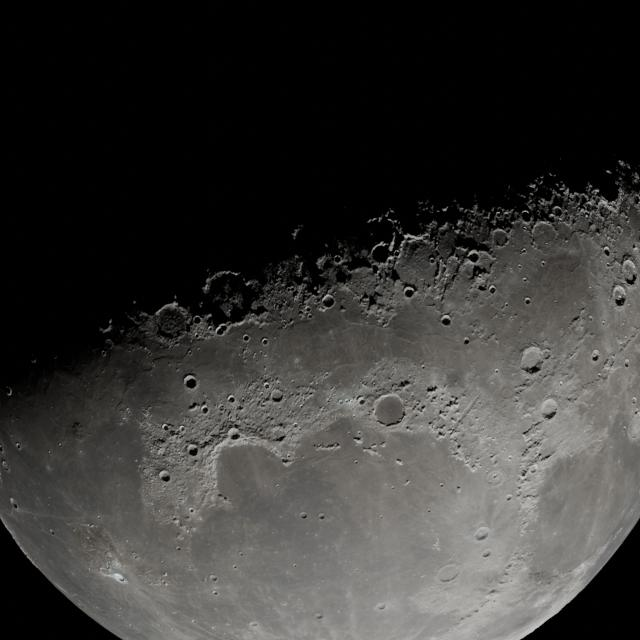crater: (193, 269, 259, 329), (146, 301, 196, 343), (515, 341, 551, 378), (371, 393, 410, 426), (432, 562, 464, 584), (538, 397, 565, 423), (368, 243, 394, 266), (619, 254, 637, 285), (609, 284, 630, 308), (320, 294, 340, 313), (266, 388, 288, 405), (472, 525, 492, 543), (399, 286, 420, 303), (181, 375, 200, 393), (226, 427, 244, 443), (156, 471, 175, 486), (186, 444, 204, 458), (439, 314, 455, 329), (590, 349, 605, 364), (468, 250, 484, 264), (522, 294, 536, 308), (488, 285, 501, 298), (600, 247, 614, 258), (462, 337, 472, 348)
